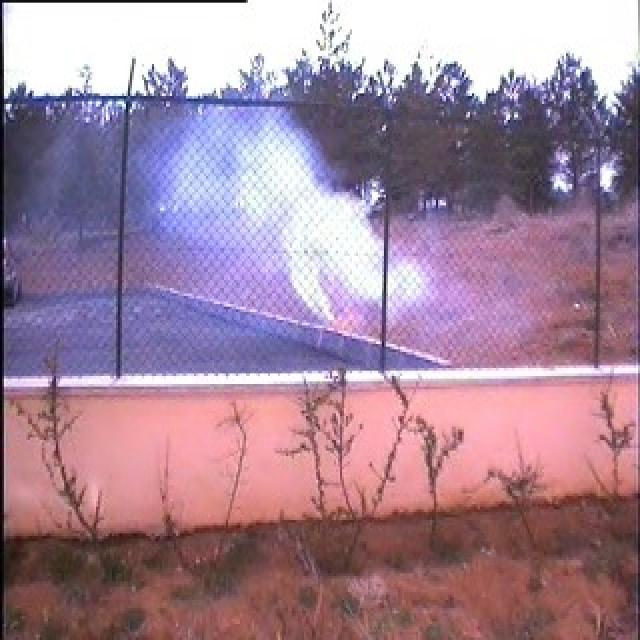Smoke: (157, 105, 426, 324)
